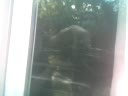window: (0, 2, 59, 96), (64, 72, 96, 96), (58, 36, 82, 48), (117, 76, 128, 95), (110, 49, 119, 55)
